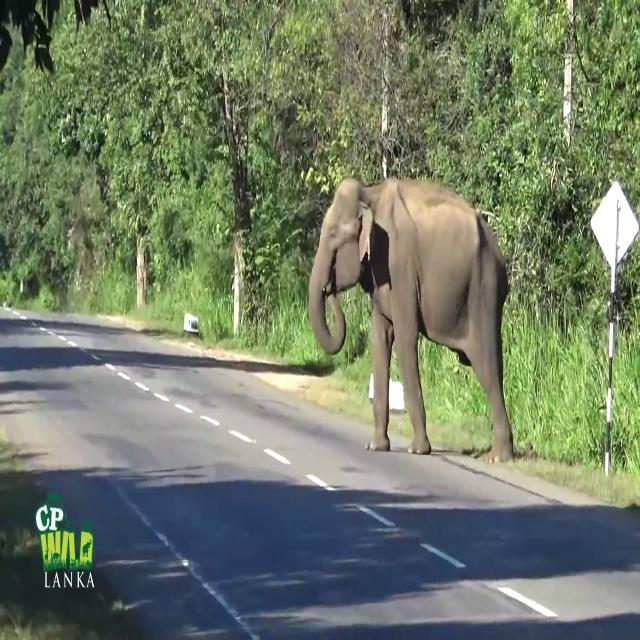Elephant: (308, 175, 514, 464)
